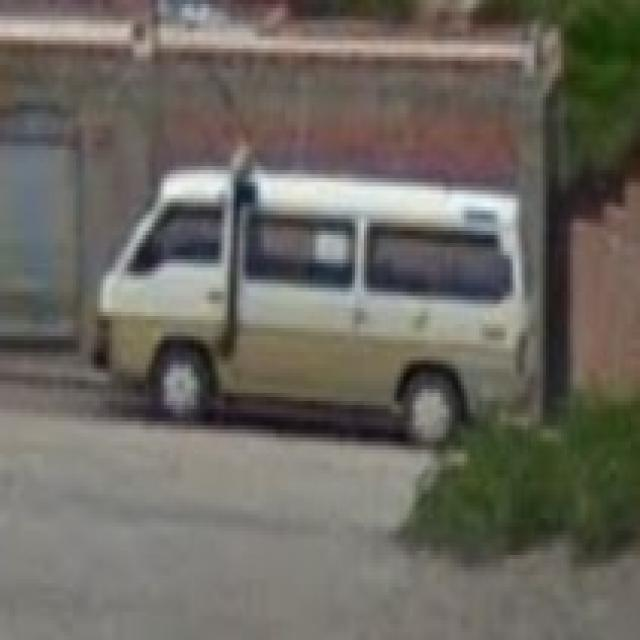cars: (96, 158, 532, 436)
